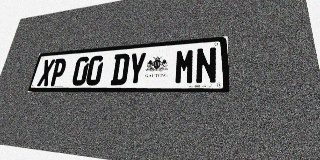0: (85, 55, 105, 86), (71, 56, 90, 86)
D: (110, 53, 130, 85)
M: (174, 48, 195, 84)
N: (195, 47, 217, 84)
P: (49, 58, 68, 86)
X: (37, 59, 55, 86)
Y: (126, 52, 147, 85)
